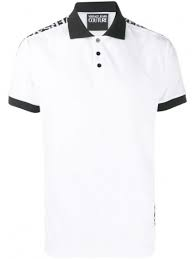C_polo shirt: (9, 15, 195, 231)
